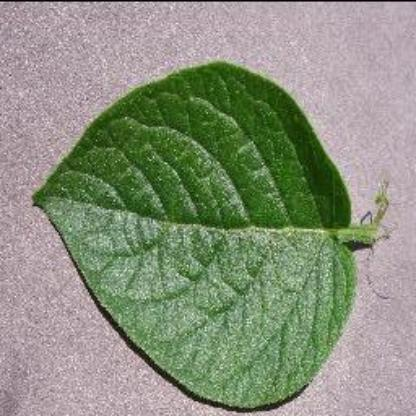Healthy-plant: (39, 64, 357, 414)
